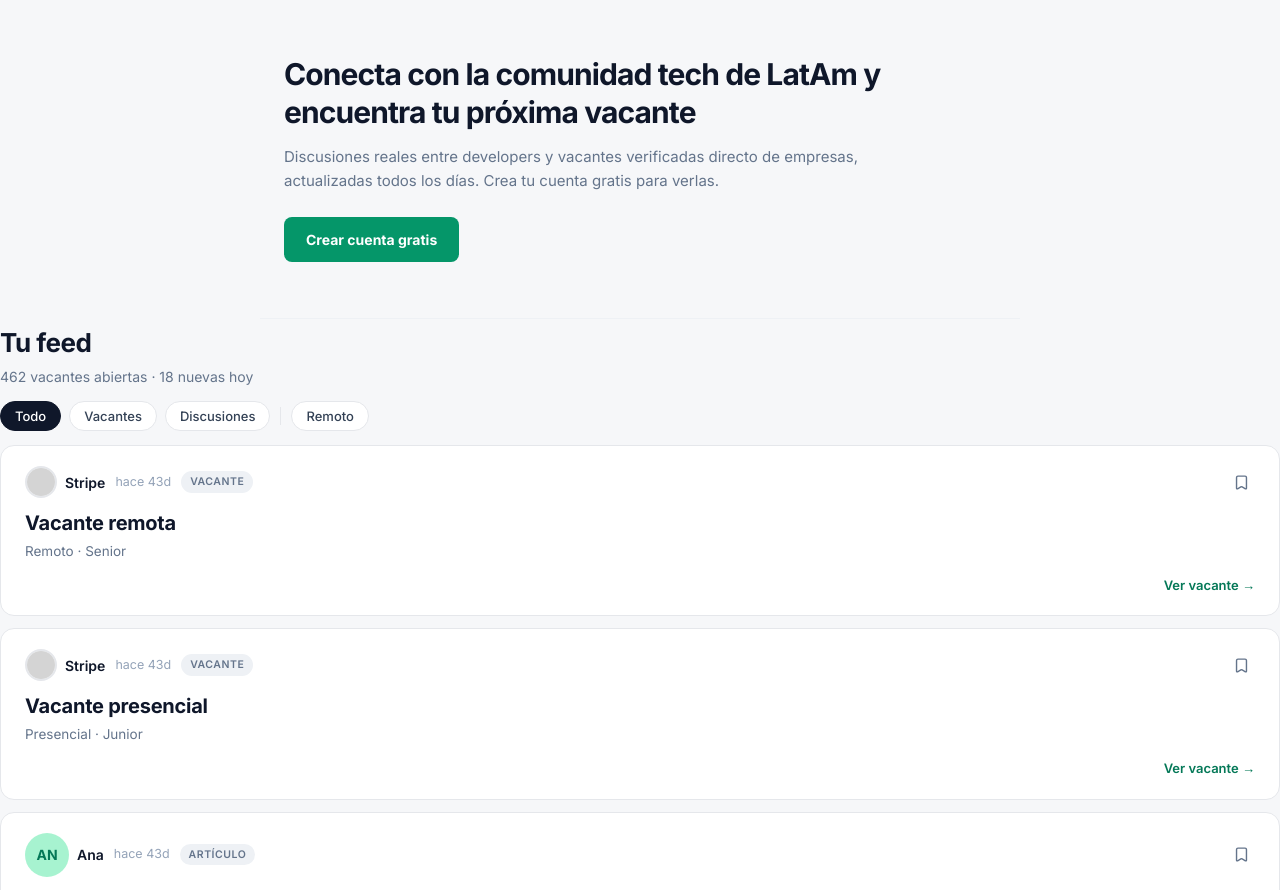
Test: la cabecera y los filtros del feed › "Remoto" deja solo las vacantes remotas, y se puede quitar
(page scrolled)
Expected: the heading "Vacante presencial" is shown, [25,694,208,718]
Click the button "Remoto". click: {"x": 330, "y": 416}
box: [292,401,369,431]
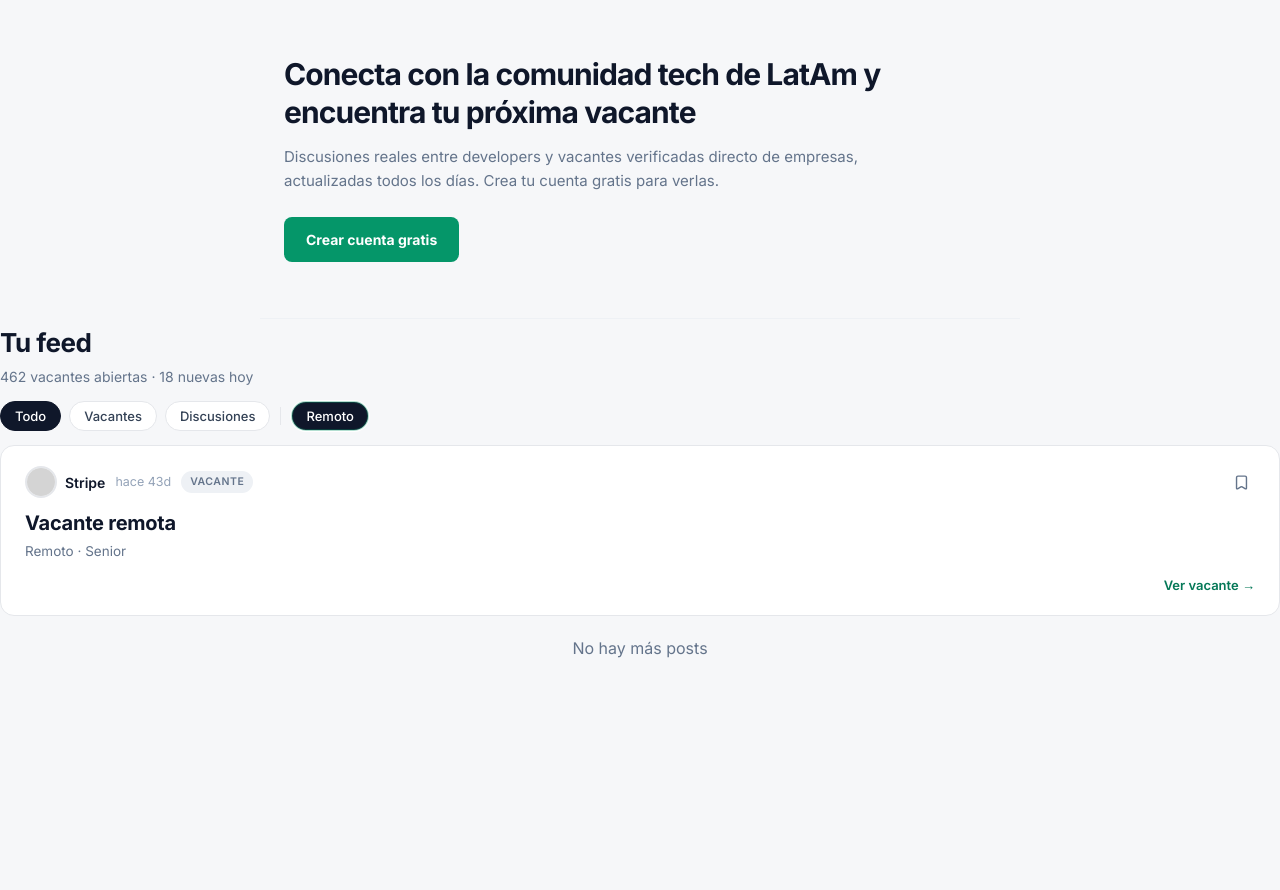
Expected: the heading "Vacante remota" is shown, [25,511,176,535]
Now the heading "Vacante presencial" is gone
Click the button "Remoto". click: {"x": 330, "y": 416}
box: [292,401,369,431]
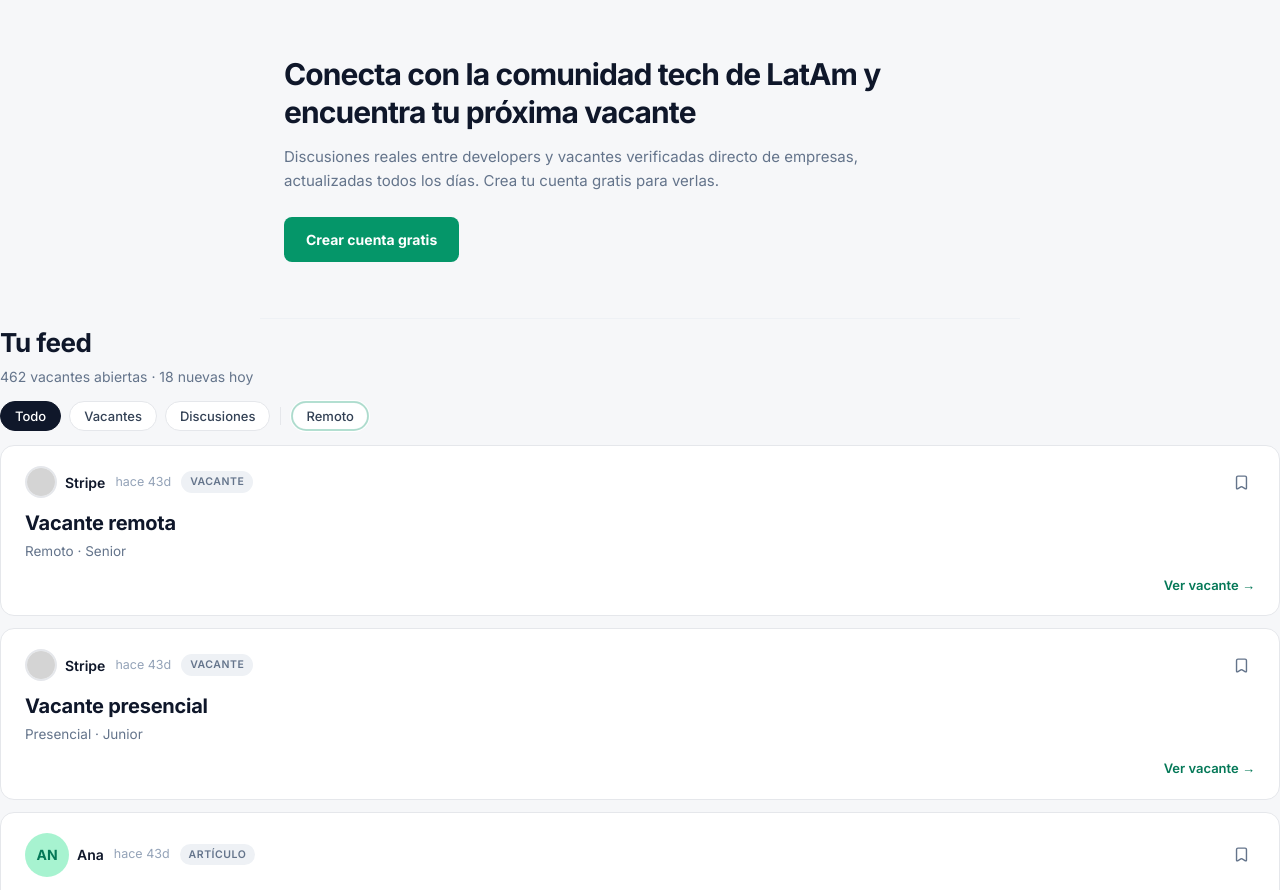
Now the heading "Vacante presencial" is shown, box [25,694,208,718]
